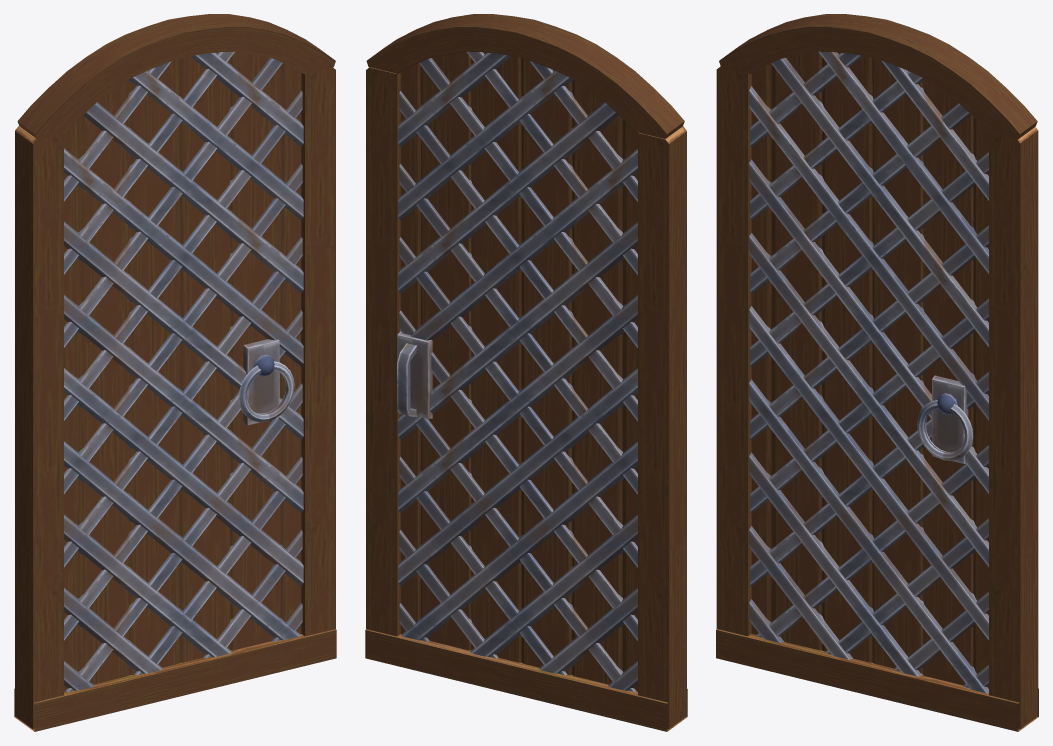
File: quaternius-gate-door.glb
The picture shows the model from 3 angles, left to right: view 1: azimuth 30°, elevation 25°; view 2: azimuth 150°, elevation 25°; view 3: azimuth 330°, elevation 25°; orthographic projection.
Parts seen in each view (by area): view 1: Door_4_Round; view 2: Door_4_Round; view 3: Door_4_Round.
Part boxes in pixels (x1=…): Door_4_Round: x1=14, y1=14, x2=336, y2=731; Door_4_Round: x1=365, y1=14, x2=687, y2=731; Door_4_Round: x1=716, y1=14, x2=1038, y2=731.
Size of the model in its own units: 1.11 by 2.32 by 0.2093.
Materials: 2 (2 with a texture image).
